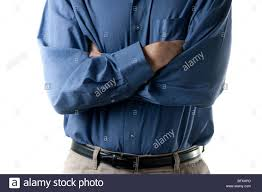F_belt: (63, 133, 219, 171)
